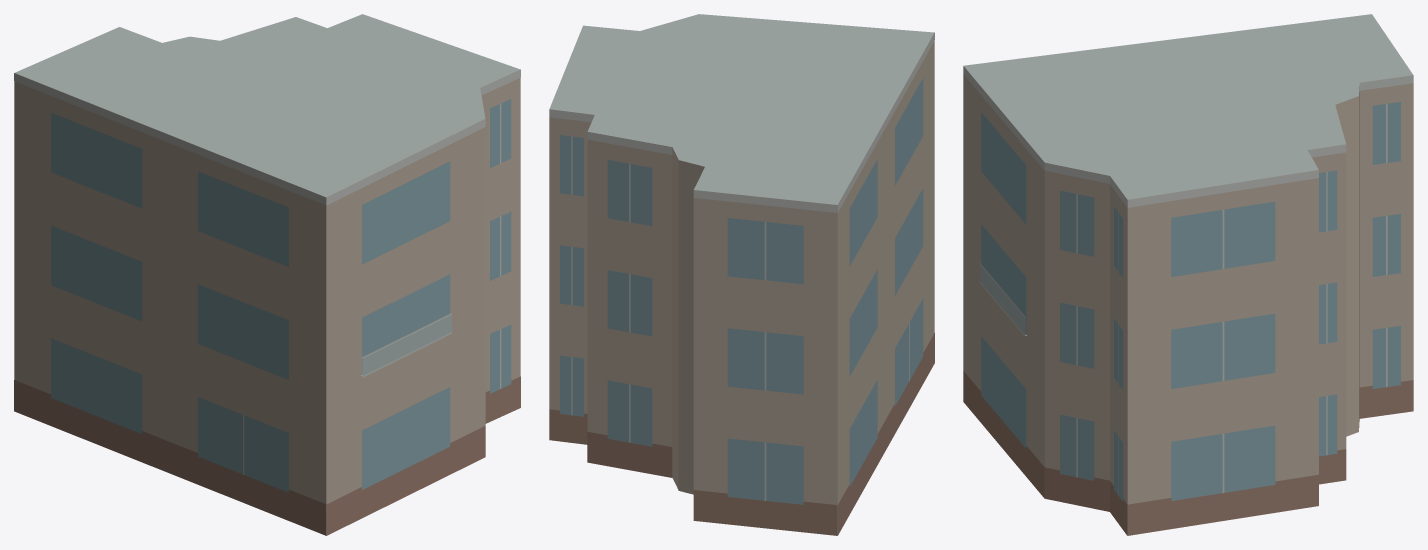
File: survey-upis-32494110.glb
The picture shows the model from 3 angles, left to right: view 1: azimuth 30°, elevation 25°; view 2: azimuth 150°, elevation 25°; view 3: azimuth 270°, elevation 25°; orthographic projection. The views are drawn at different scales.
Parts seen in each view (by area): view 1: survey-upis-32494110.tmp; view 2: survey-upis-32494110.tmp; view 3: survey-upis-32494110.tmp.
Part boxes in pixels (x1,y1,x2,y2): survey-upis-32494110.tmp: (14, 14, 520, 535); survey-upis-32494110.tmp: (549, 14, 934, 535); survey-upis-32494110.tmp: (963, 14, 1413, 535).
Size of the model in its own units: 12.11 by 10.2 by 12.4.
